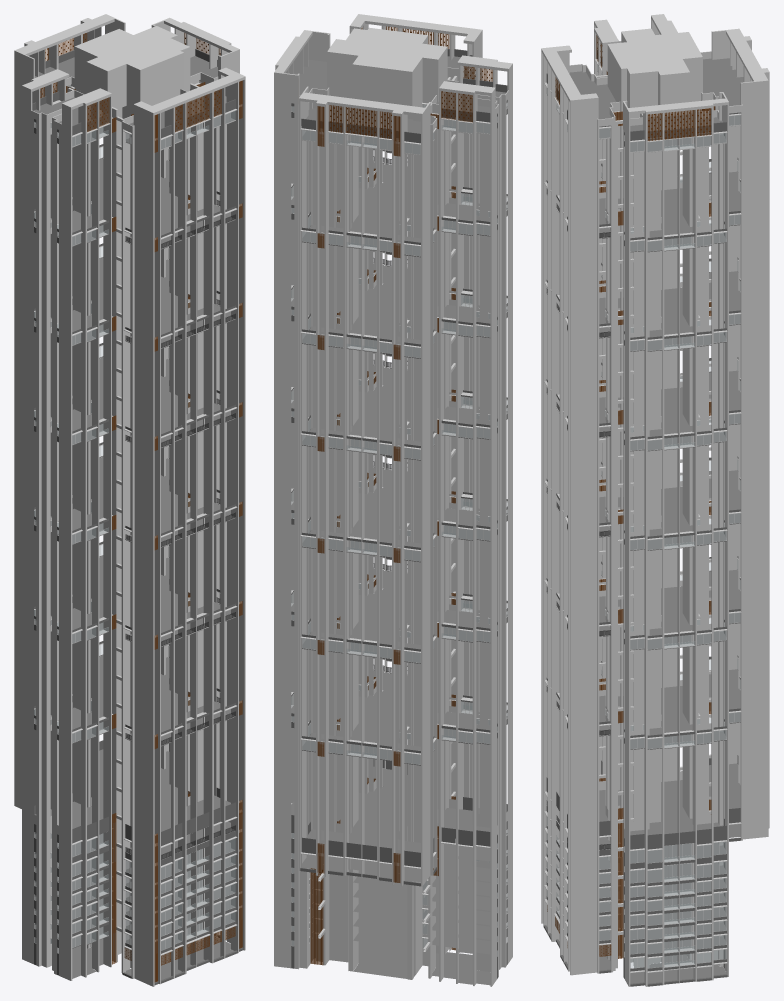
File: 01_SM_T3_Skeleton.glb
3 views of the same model, side by side, from view 1: azimuth 30°, elevation 25°; view 2: azimuth 150°, elevation 25°; view 3: azimuth 270°, elevation 25° (orthographic). The views are drawn at different scales.
Visible parts, largest first — view 1: SM_Tower_03, SM_Tower_03._RefugeeFloor; view 2: SM_Tower_03, SM_Tower_03._RefugeeFloor; view 3: SM_Tower_03, SM_Tower_03._RefugeeFloor.
Part boxes in pixels (x1=…): SM_Tower_03: x1=14, y1=14, x2=245, y2=986; SM_Tower_03._RefugeeFloor: x1=34, y1=144, x2=242, y2=748; SM_Tower_03: x1=274, y1=14, x2=512, y2=986; SM_Tower_03._RefugeeFloor: x1=291, y1=149, x2=507, y2=766; SM_Tower_03: x1=541, y1=14, x2=769, y2=986; SM_Tower_03._RefugeeFloor: x1=544, y1=158, x2=741, y2=749.
Size of the model in its own units: 2.26 by 9.53 by 2.22.
Materials: 6 (1 with a texture image).
